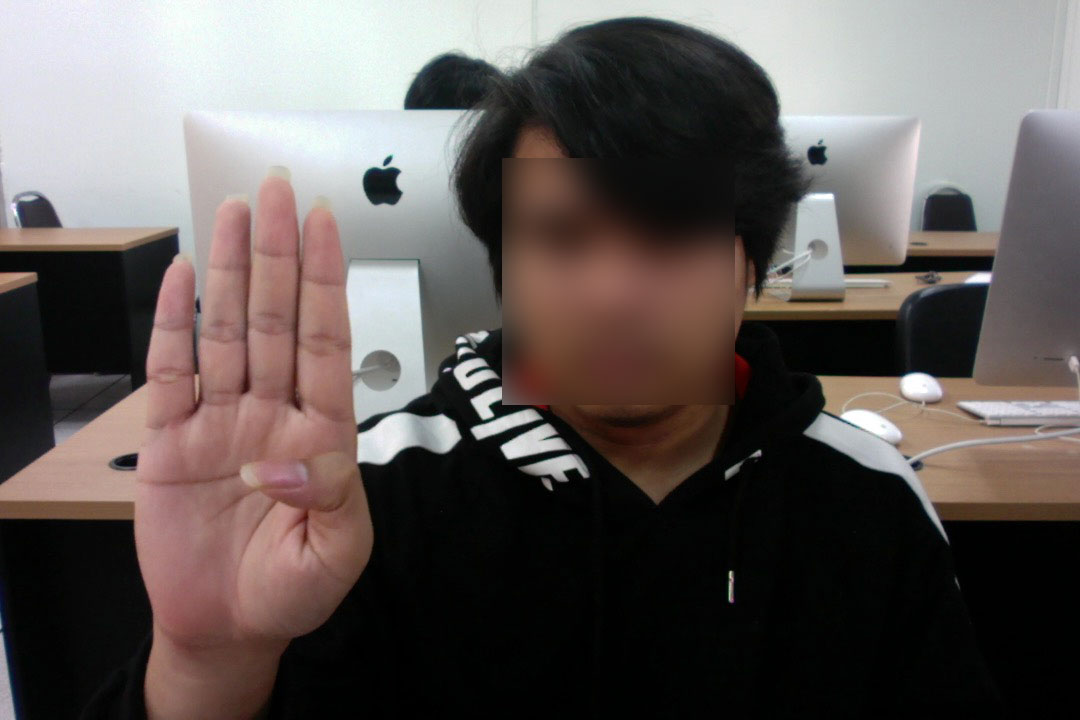bor: (125, 157, 376, 682)
